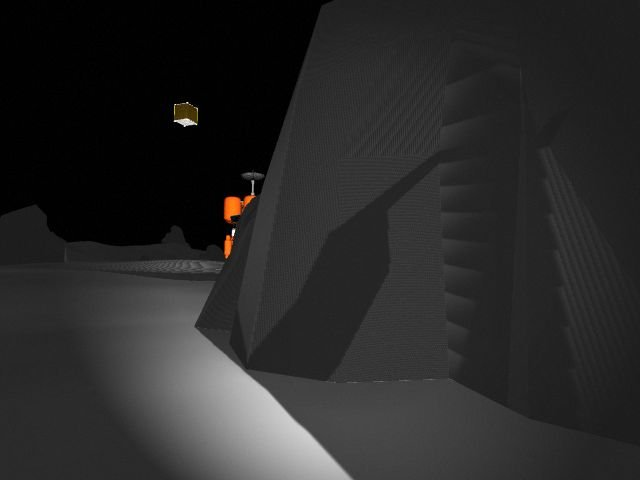cubesat: (165, 96, 214, 132)
